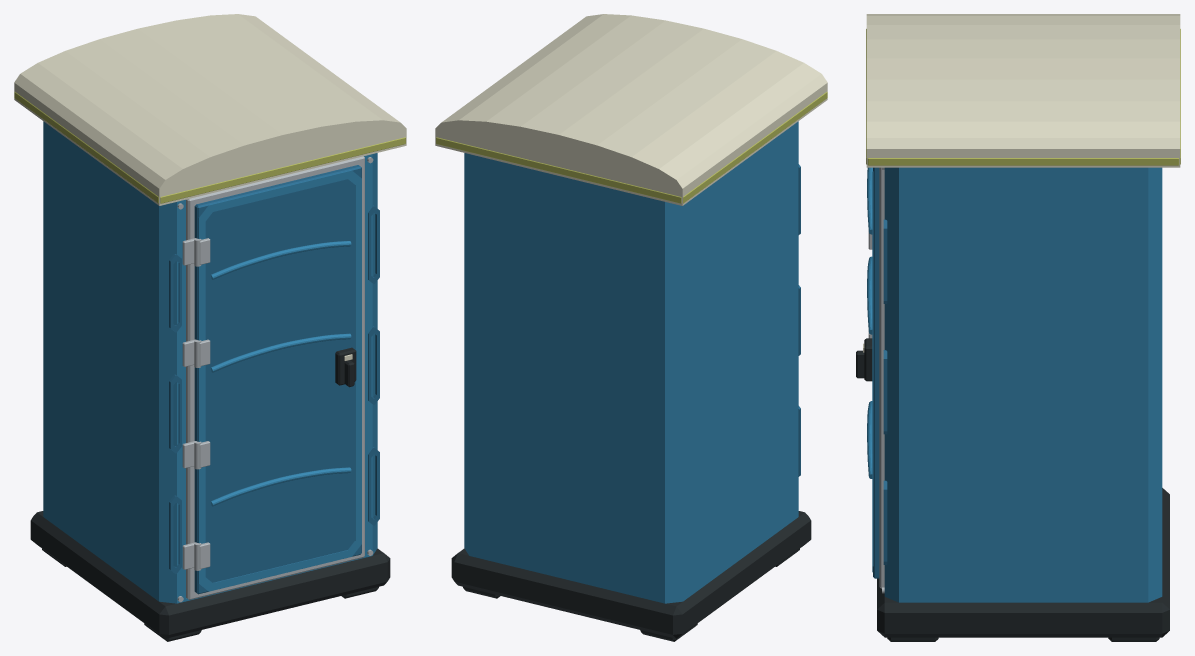
File: full.glb
3 views of the same model, side by side, from view 1: azimuth 30°, elevation 25°; view 2: azimuth 150°, elevation 25°; view 3: azimuth 270°, elevation 25° (orthographic). The views are drawn at different scales.
Visible parts, largest first — view 1: Closed exterior cabin, Closed door skin, Shallow arched roof, Low skid base, Rounded door reinforcing rim, Door jamb foundation, Roof edge apron, Curved door reinforcement 0.63, Curved door reinforcement 1.25, Curved door reinforcement 1.68, Side molded rhomboid -11, Side molded rhomboid -12 (+4 smaller); view 2: Closed exterior cabin, Shallow arched roof, Low skid base, Roof edge apron; view 3: Closed exterior cabin, Shallow arched roof, Low skid base, Closed door skin, Roof edge apron, Door jamb foundation, Rounded door reinforcing rim.
Part boxes in pixels (x1,y1,x2,y2): Closed exterior cabin: (43, 121, 377, 603); Closed door skin: (194, 165, 361, 594); Shallow arched roof: (14, 14, 406, 205); Low skid base: (30, 511, 390, 638); Rounded door reinforcing rim: (198, 170, 361, 591); Door jamb foundation: (186, 156, 364, 599); Roof edge apron: (14, 92, 405, 203); Curved door reinforcement 0.63: (211, 467, 351, 506); Curved door reinforcement 1.25: (211, 333, 351, 372); Curved door reinforcement 1.68: (211, 241, 351, 279); Side molded rhomboid -11: (169, 374, 181, 453); Side molded rhomboid -12: (169, 254, 181, 332); Closed exterior cabin: (464, 121, 798, 603); Shallow arched roof: (435, 14, 827, 205); Low skid base: (451, 511, 811, 638); Roof edge apron: (436, 92, 827, 203); Closed exterior cabin: (884, 167, 1162, 602); Shallow arched roof: (866, 14, 1180, 167); Low skid base: (877, 488, 1169, 637); Closed door skin: (873, 167, 879, 578); Roof edge apron: (866, 29, 1180, 165); Door jamb foundation: (879, 167, 884, 588); Rounded door reinforcing rim: (872, 167, 873, 572).
Size of the model in its own units: 1.21 by 2.27 by 1.26.
